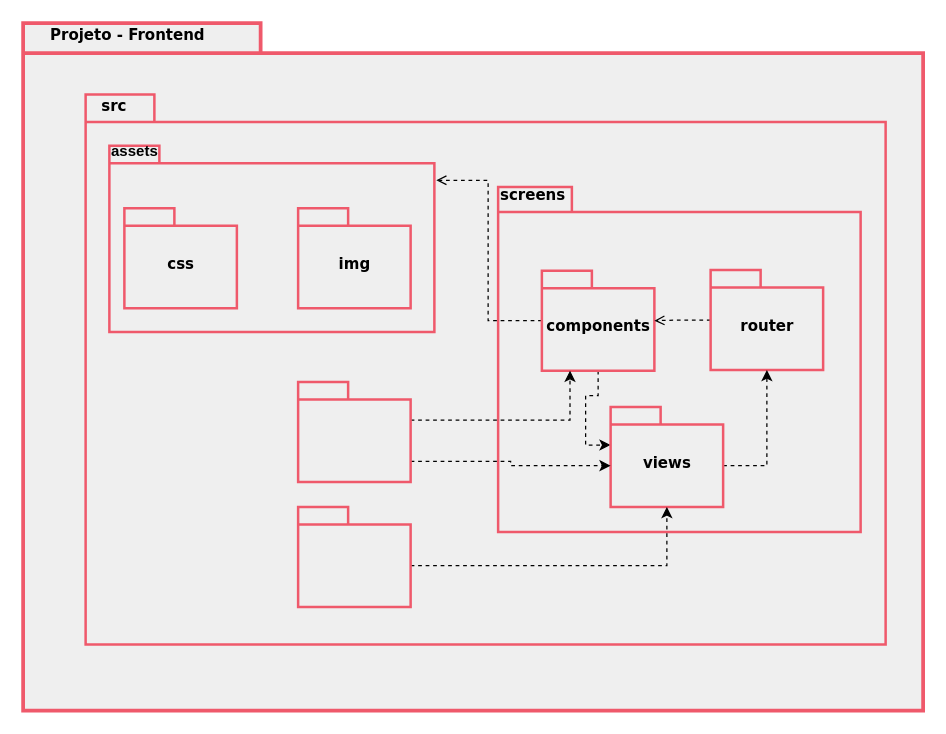
The diagram is 946 pixels wide and 734 high, and some of its shapes have lost their labels. Each missing label, with the centre of its shape:
"services" goes at (x=353, y=431).
"utils" goes at (x=353, y=556).
